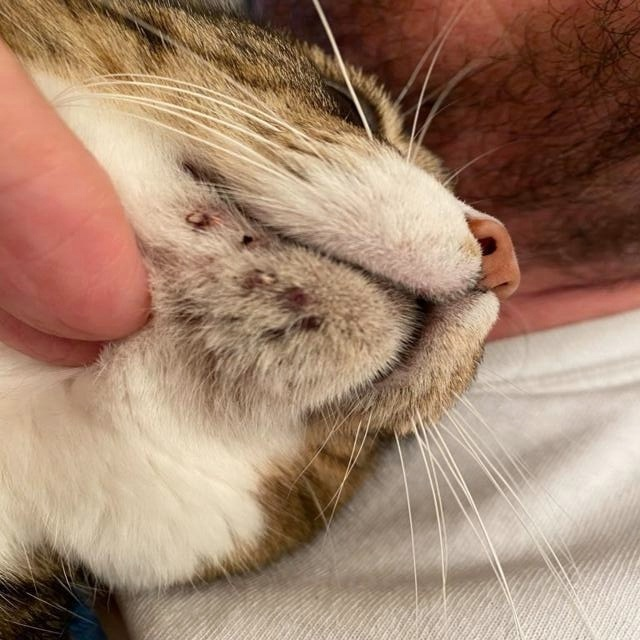acne: (161, 206, 353, 361)
